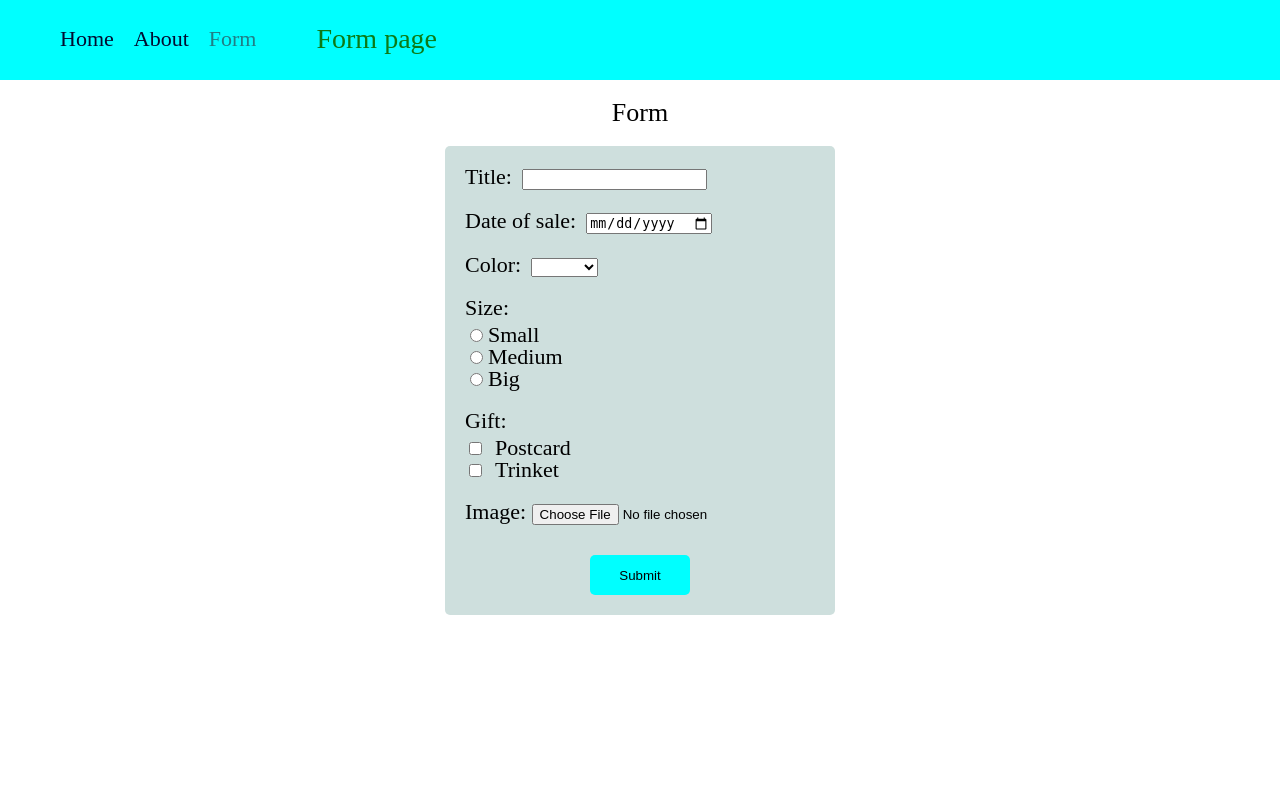
The Form Page › show mistakes when gift, size and image are not selected
Type "Oliver" into the field with id "title" at coordinates (615, 180), box [522,169,707,190]
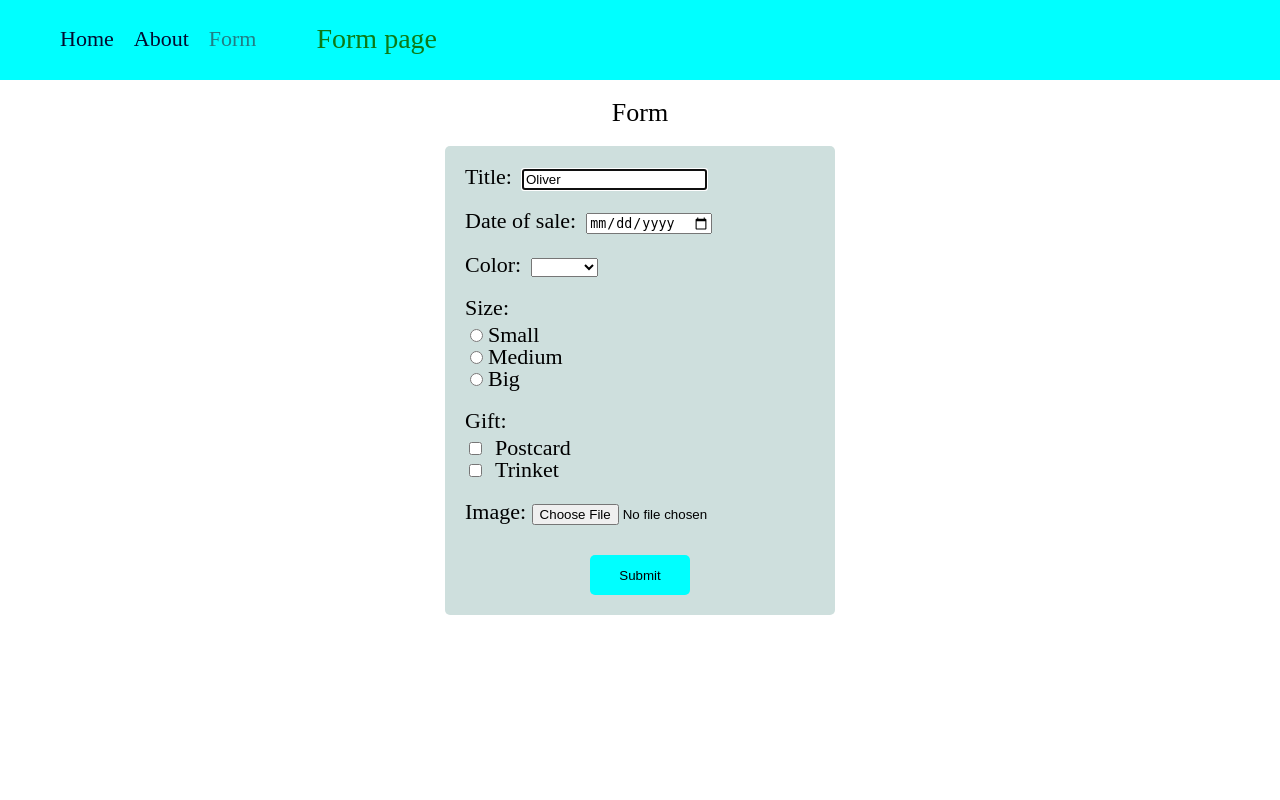
Type "2023-04-22" into the date field with id "date" at coordinates (649, 224), box [586,213,711,234]
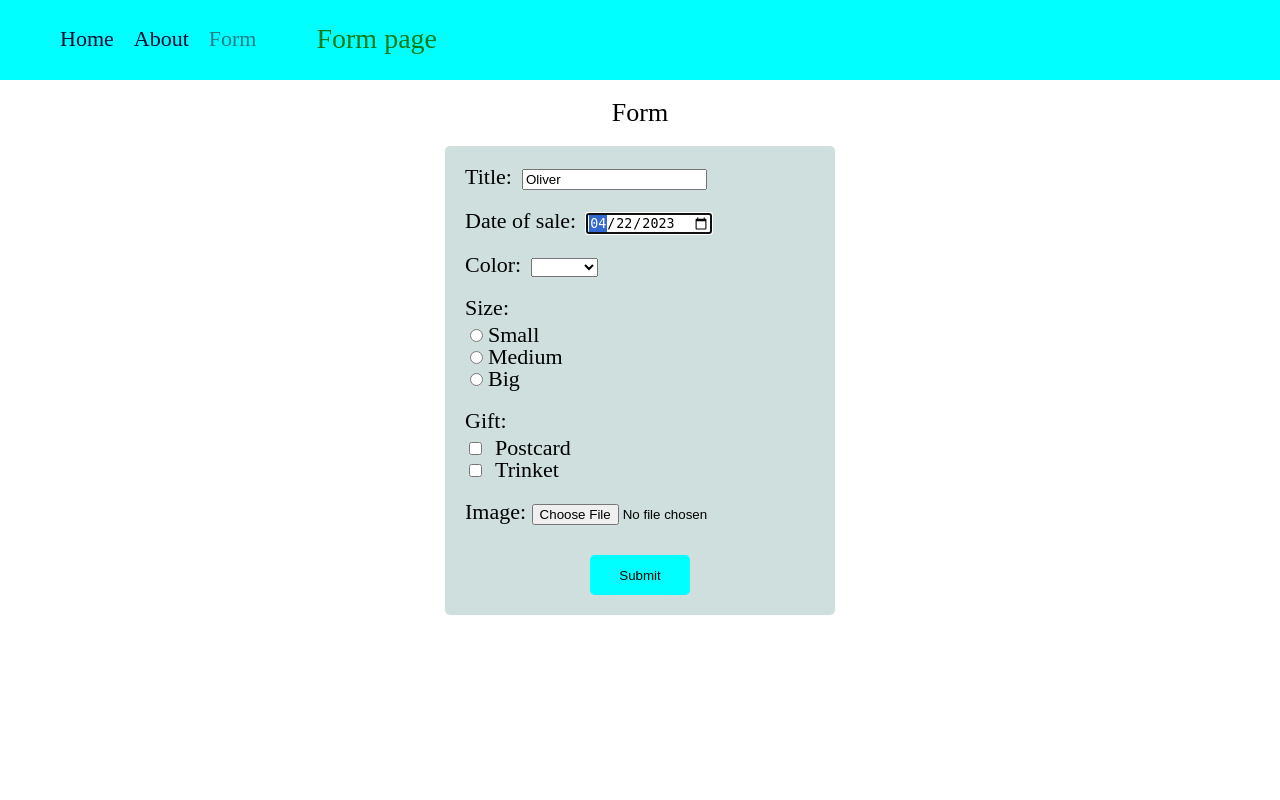
Select "Red" in the dropdown with id "color" at coordinates (565, 268), box [531,258,598,277]
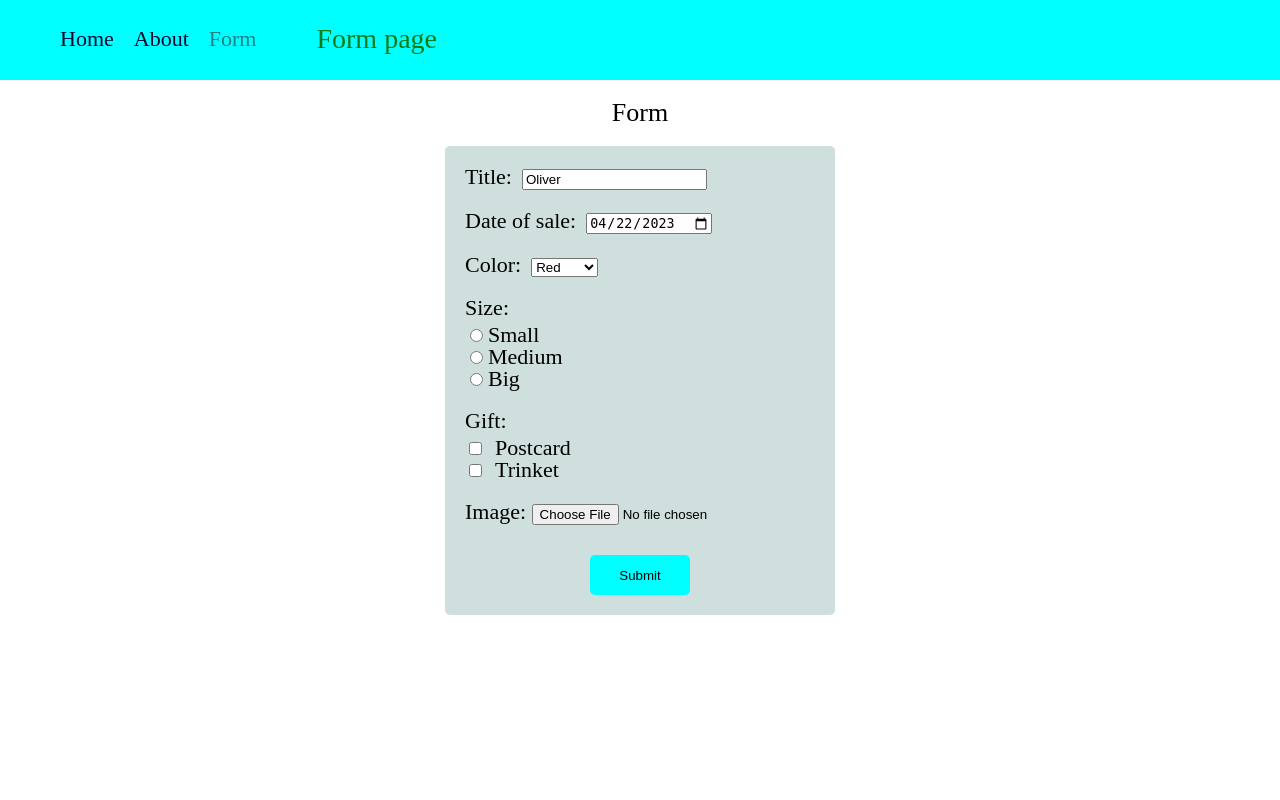
Click the button with class "form__button" at coordinates (640, 575), box [590,555,690,595]
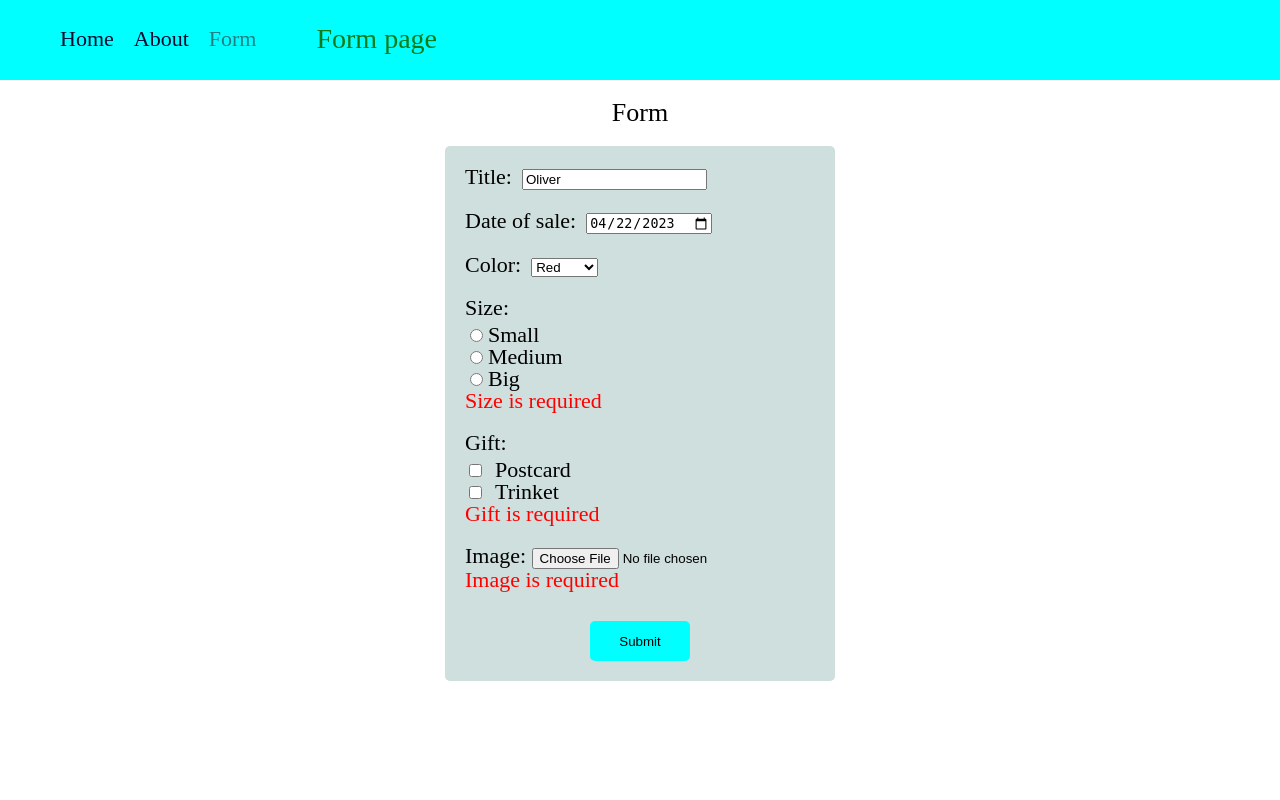
Expected: the text "Size is required" is shown, [465,388,602,413]
Expected: the text "Gift is required" is shown, [465,501,599,526]
Expected: the text "Image is required" is shown, [465,567,619,592]
